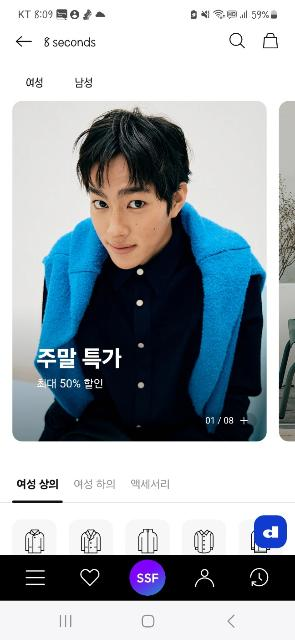Bottom_Navigation: (0, 554, 295, 599)
Icon: (26, 568, 46, 586), (81, 568, 100, 586), (196, 569, 214, 587), (250, 568, 268, 586), (230, 32, 246, 48), (262, 32, 278, 48), (15, 35, 32, 47)
Image: (14, 100, 266, 442)
ImageButton: (68, 518, 114, 554), (14, 519, 58, 555), (125, 518, 169, 554), (181, 519, 225, 555), (254, 516, 288, 548)
Multi_Tab: (12, 479, 180, 505)
Text: (38, 348, 122, 369), (38, 379, 102, 389), (44, 36, 96, 48), (18, 478, 58, 489), (132, 478, 170, 489), (73, 480, 114, 490), (206, 416, 248, 424), (137, 574, 159, 584), (138, 573, 158, 583), (76, 78, 92, 89), (27, 77, 43, 87)
TextButton: (130, 560, 166, 596)
Toolbar: (0, 24, 295, 57)
UpperTaskBar: (0, 0, 295, 24)
